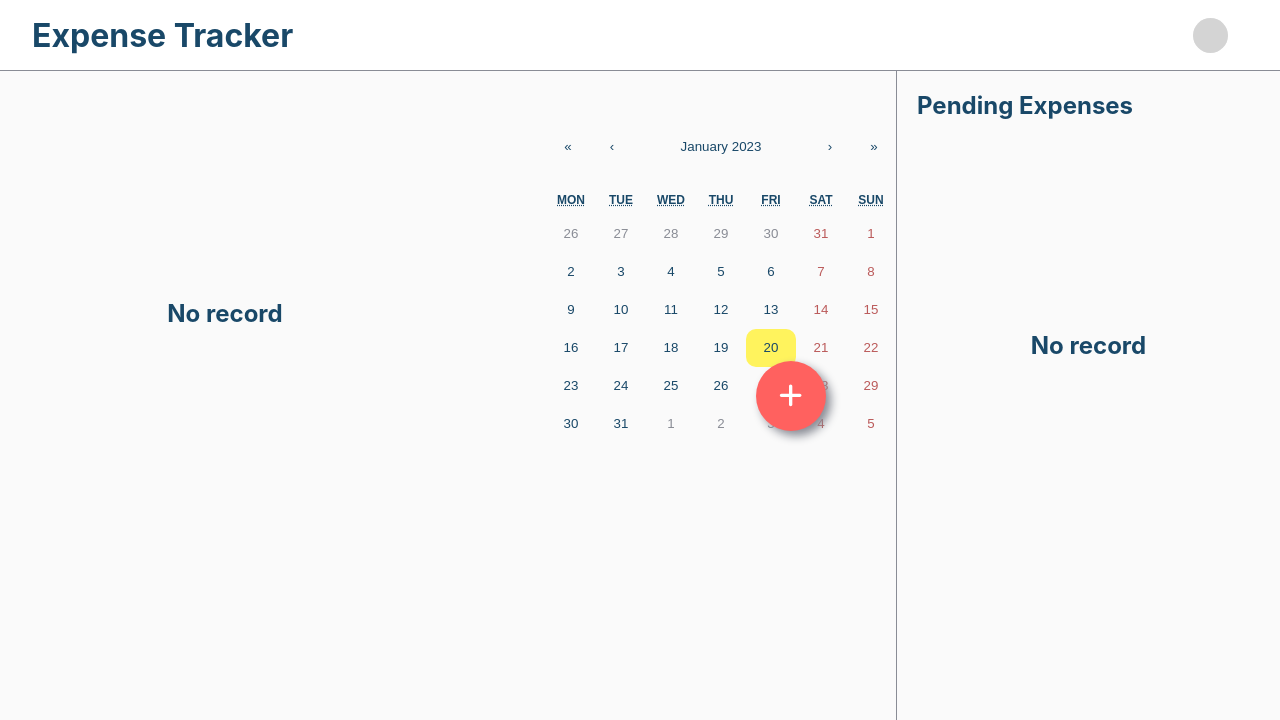
Scenario: Home › when clicking on the add new expense button › shows the modal
Click the button with test id "add-button" at (791, 396), box [756, 360, 826, 430]
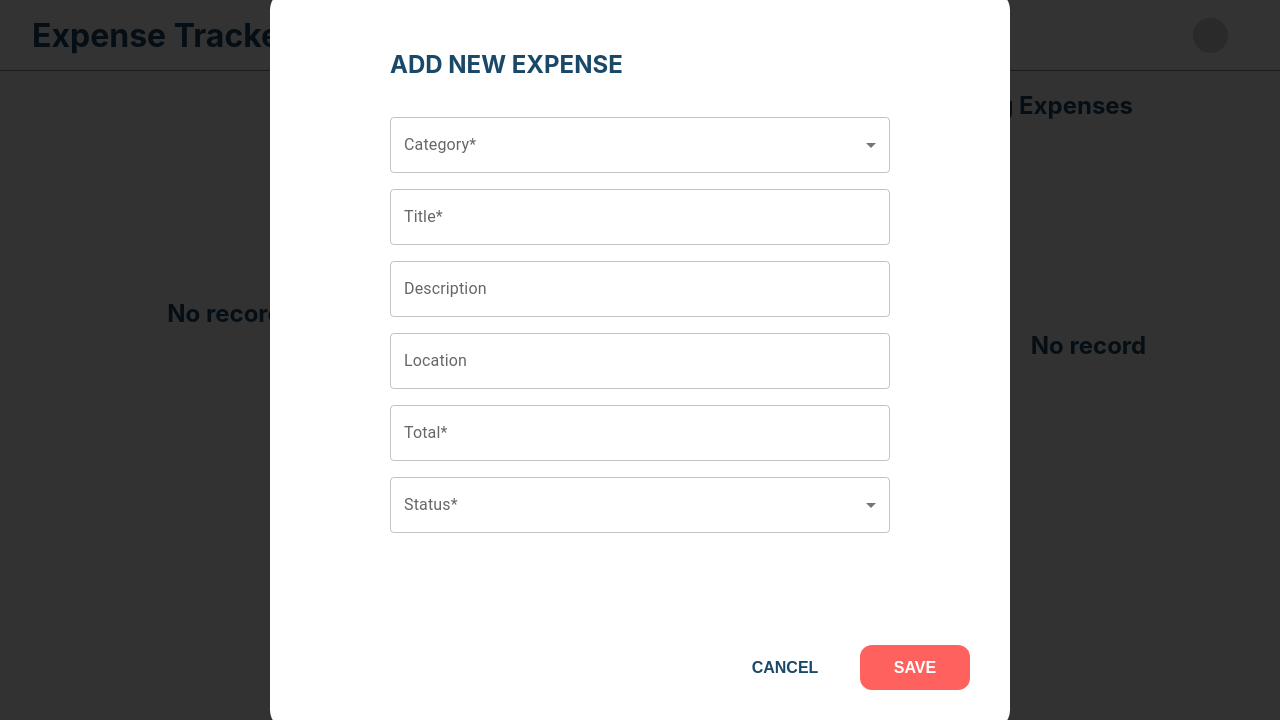
expect the heading "ADD NEW EXPENSE" is shown: met, box [390, 50, 623, 79]
